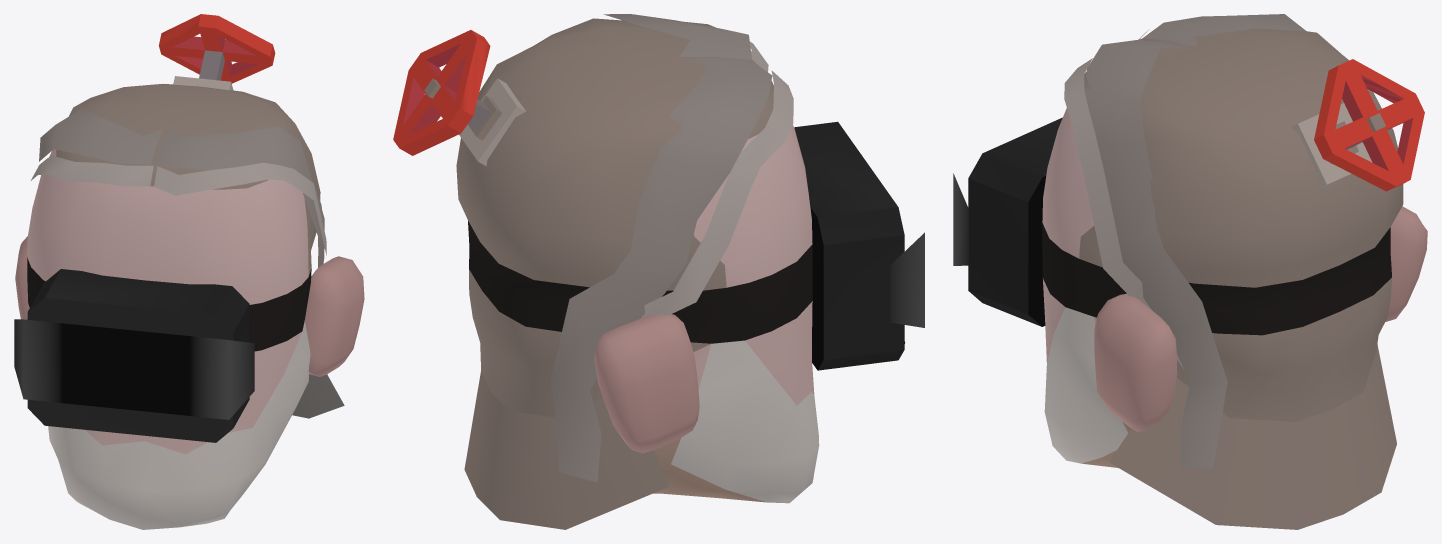
The model's file is gabe.glb.
3 renders of one model, left to right at view 1: azimuth 30°, elevation 25°; view 2: azimuth 150°, elevation 25°; view 3: azimuth 270°, elevation 25°, orthographic. The views are drawn at different scales.
Visible parts, largest first — view 1: VR; view 2: VR; view 3: VR.
Part boxes in pixels (x1,y1,x2,y2): VR: (14, 14, 364, 529); VR: (393, 14, 924, 529); VR: (953, 14, 1427, 529).
Size of the model in its own units: 2.3 by 2.54 by 2.3.
